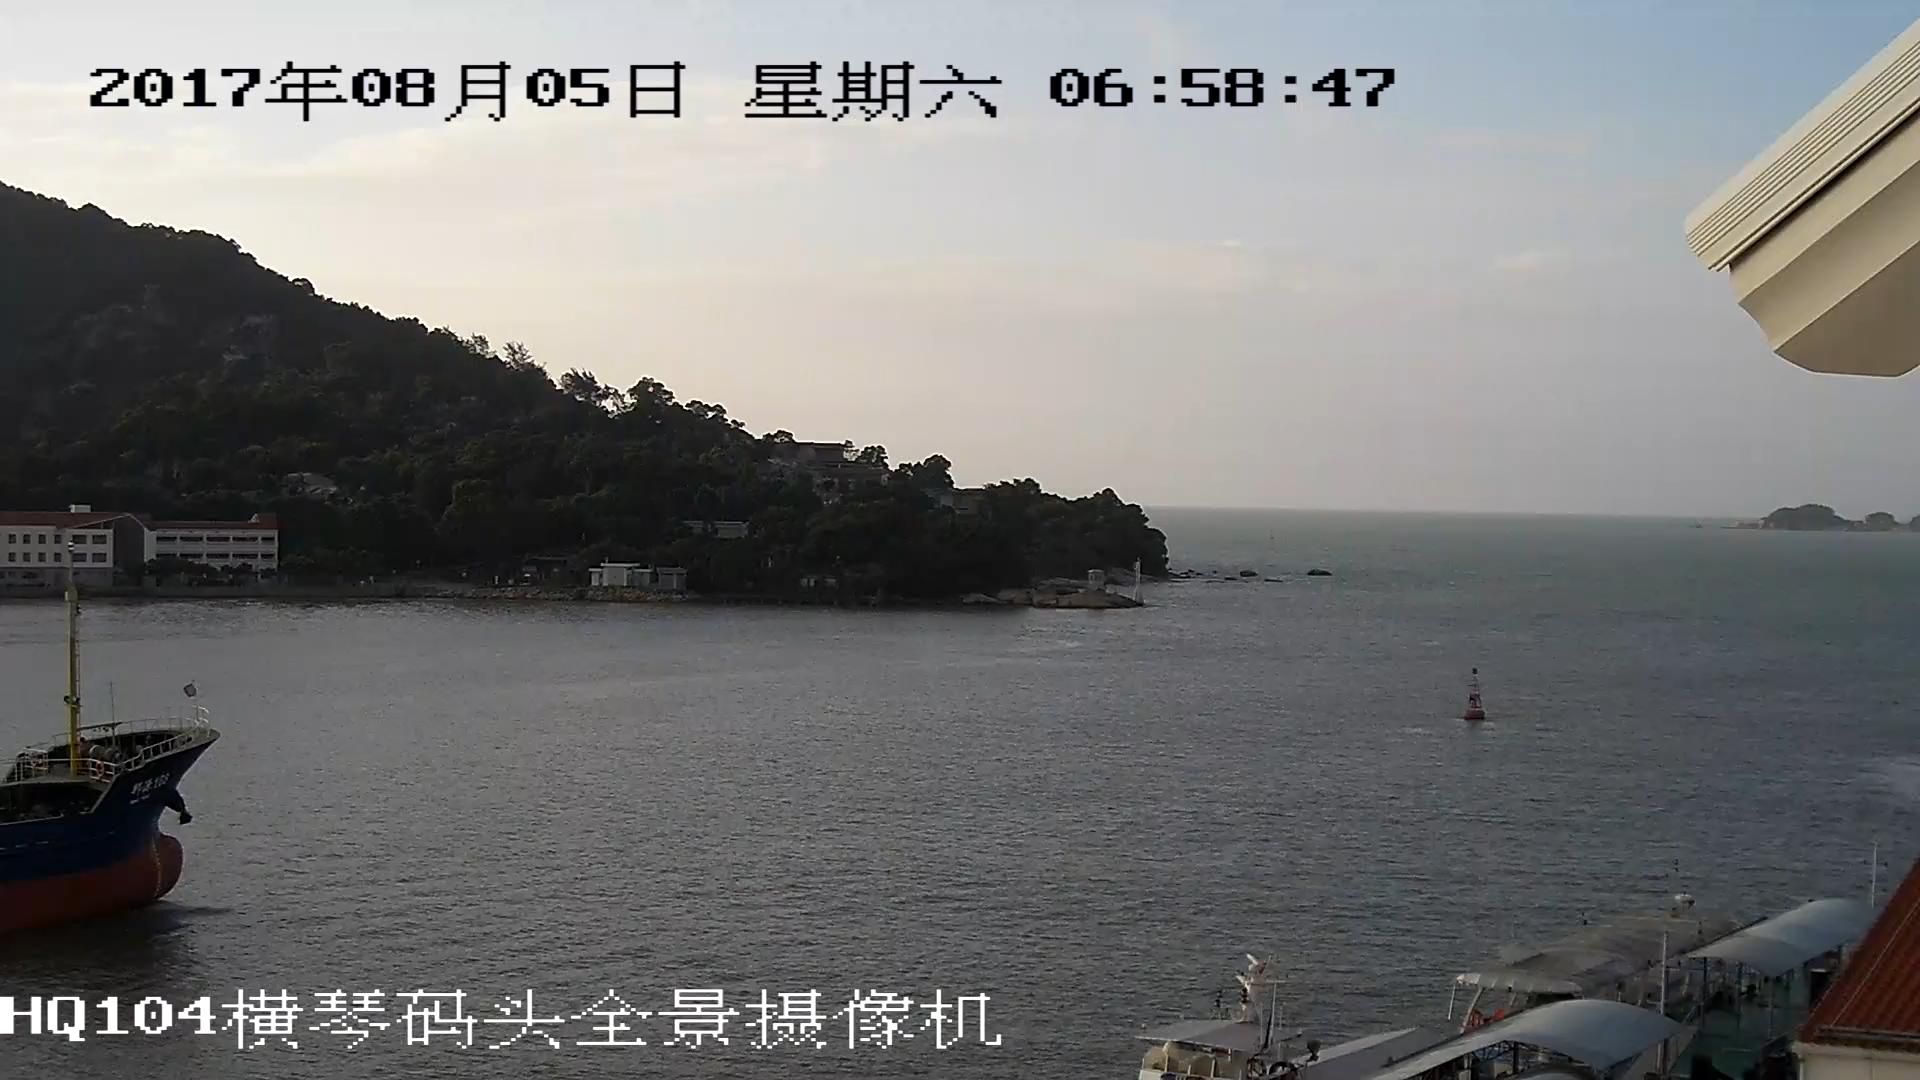general cargo ship: (1, 583, 209, 944)
